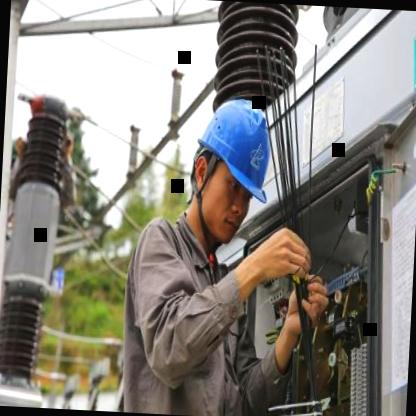helmet: (182, 74, 284, 252)
